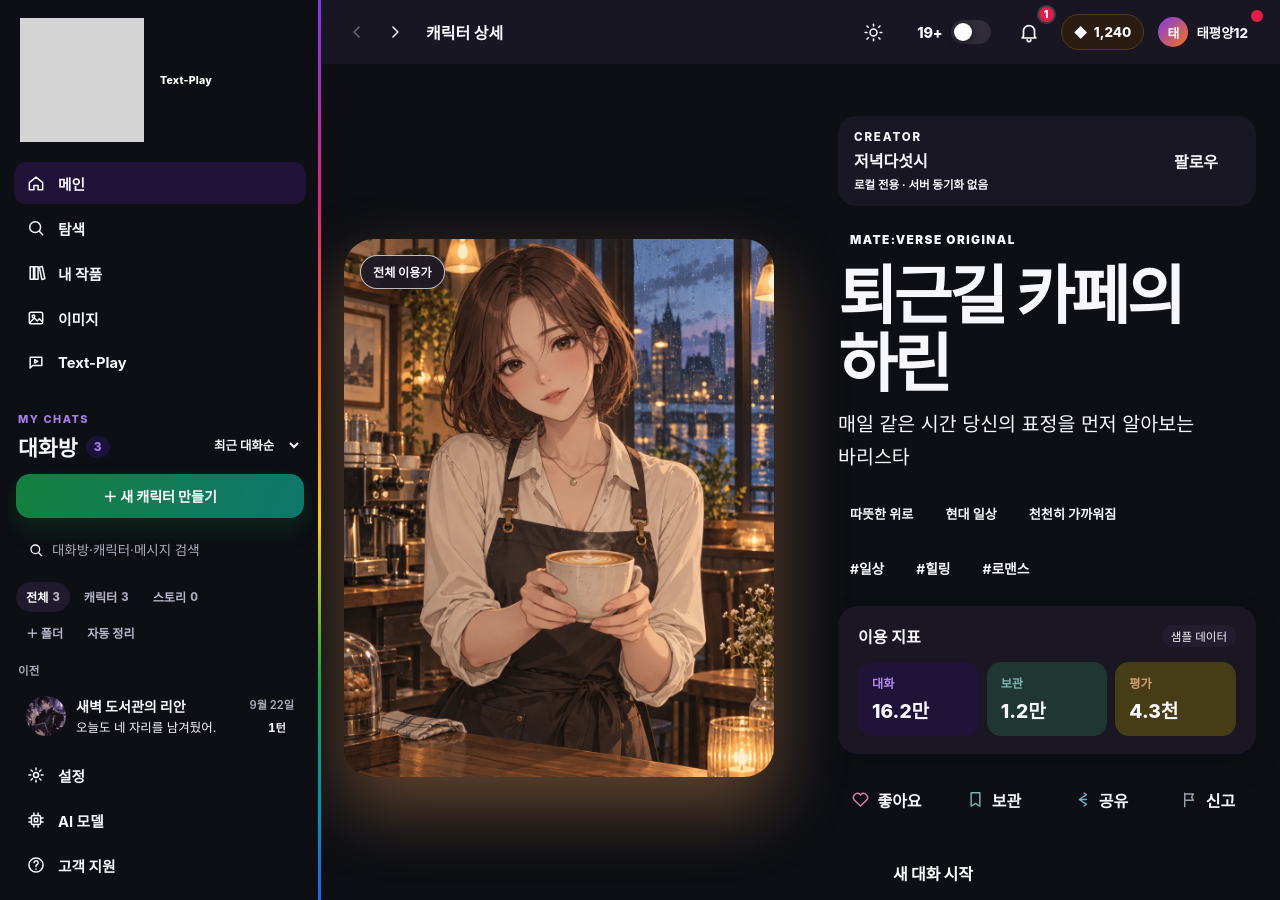
데스크톱 앱 틀 › 메뉴에 없는 화면은 소속 메뉴를 사이드바에 표시하고 그 기준으로 이동한다
Expected: the button named "이전 메뉴" is disabled, [340,15,374,49]
Click the button named "다음 메뉴: 탐색".
click(395, 32)  # box [378,15,412,49]
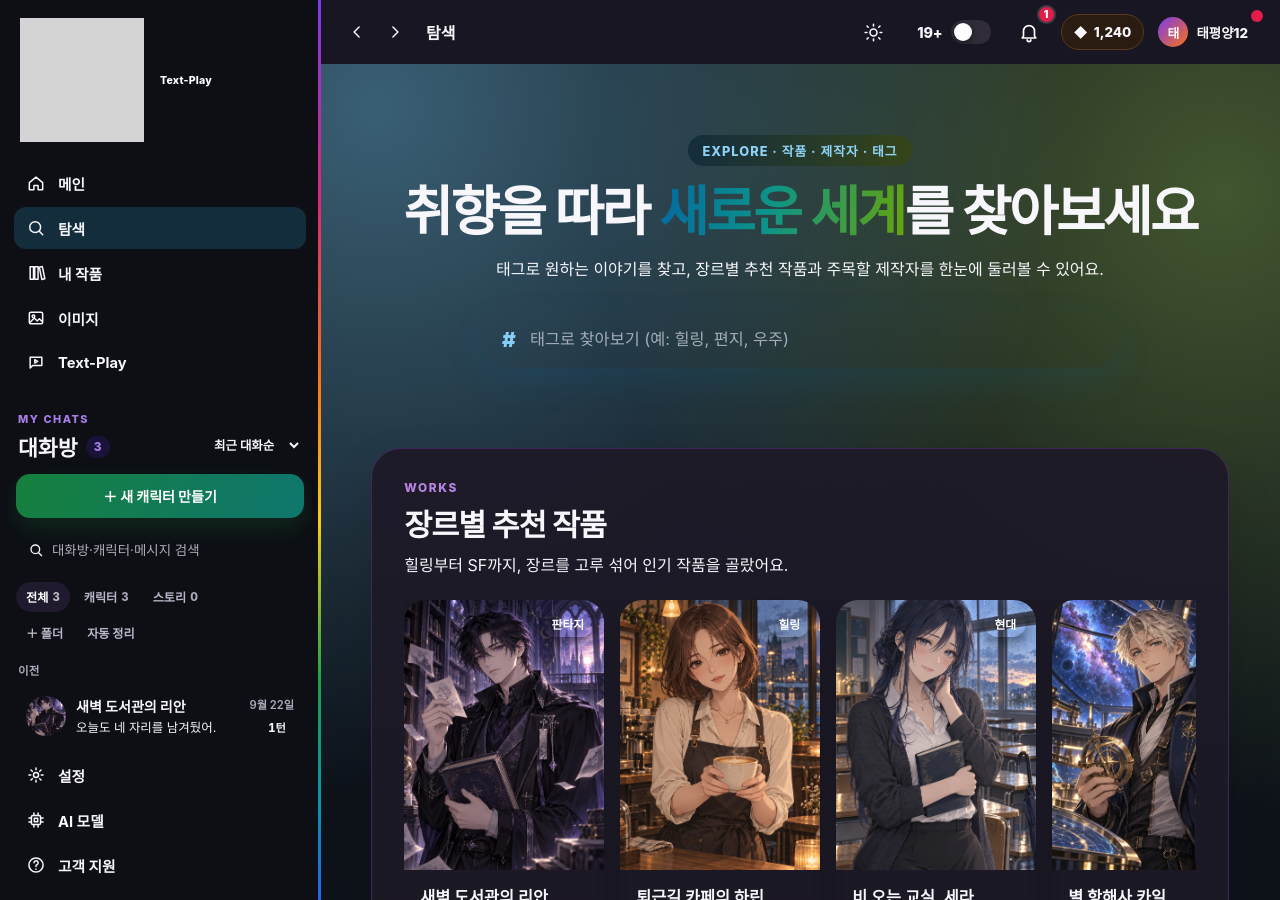
Result: the heading "새로운 세계" is shown at [403,182,1197,242]
